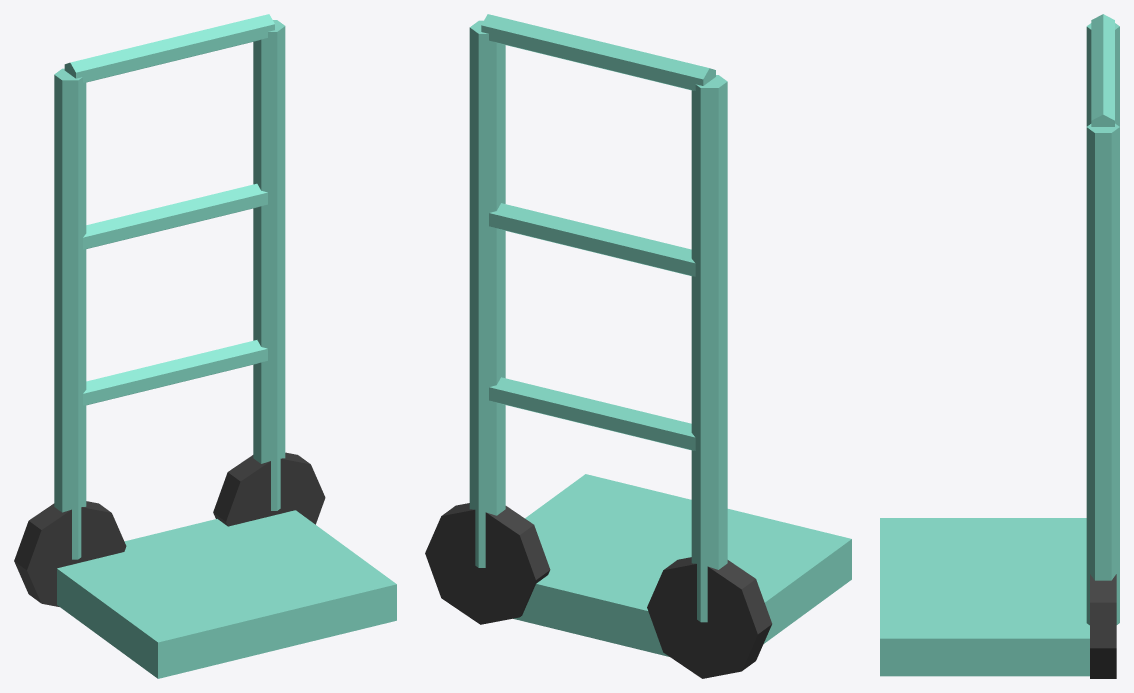
3 views of the same model, side by side, from view 1: azimuth 30°, elevation 25°; view 2: azimuth 150°, elevation 25°; view 3: azimuth 270°, elevation 25° (orthographic). The views are drawn at different scales.
Visible parts, largest first — view 1: Loading plate, Frame, Frame.001, Wheel, Wheel.001, Crossbar.002, Crossbar, Crossbar.001; view 2: Loading plate, Frame, Frame.001, Wheel, Wheel.001, Crossbar.002, Crossbar, Crossbar.001; view 3: Loading plate, Frame.001, Wheel.001, Crossbar.002, Frame.
Part boxes in pixels (x1=…): Loading plate: x1=57, y1=510, x2=396, y2=678; Frame: x1=54, y1=68, x2=86, y2=559; Frame.001: x1=253, y1=20, x2=285, y2=510; Wheel: x1=14, y1=501, x2=126, y2=606; Wheel.001: x1=213, y1=452, x2=325, y2=526; Crossbar.002: x1=64, y1=14, x2=274, y2=82; Crossbar: x1=83, y1=340, x2=267, y2=405; Crossbar.001: x1=83, y1=183, x2=267, y2=249; Loading plate: x1=513, y1=474, x2=851, y2=656; Frame: x1=691, y1=75, x2=727, y2=622; Frame.001: x1=469, y1=20, x2=505, y2=567; Wheel: x1=647, y1=557, x2=772, y2=678; Wheel.001: x1=425, y1=503, x2=550, y2=624; Crossbar.002: x1=481, y1=14, x2=715, y2=90; Crossbar: x1=489, y1=377, x2=695, y2=450; Crossbar.001: x1=489, y1=203, x2=695, y2=276; Loading plate: x1=880, y1=518, x2=1089, y2=676; Frame.001: x1=1086, y1=123, x2=1119, y2=625; Wheel.001: x1=1090, y1=574, x2=1116, y2=678; Crossbar.002: x1=1091, y1=14, x2=1114, y2=126; Frame: x1=1086, y1=23, x2=1119, y2=126.
Size of the model in its own units: 0.6 by 1.04 by 0.403.
Materials: 1 (1 with a texture image).
